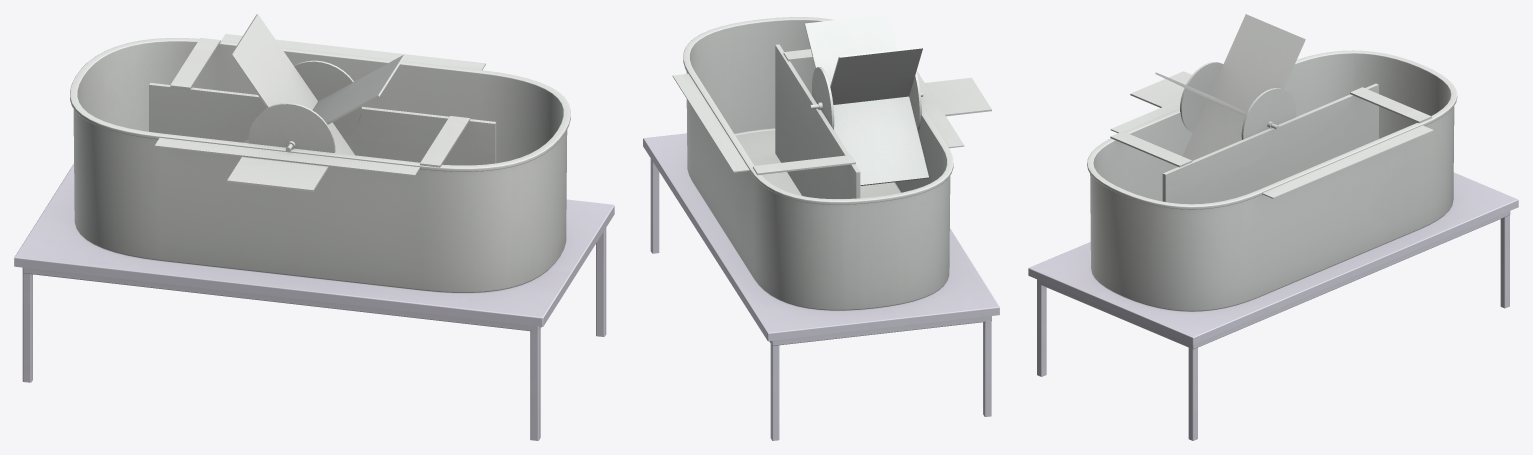
Rendered from Reactor.glb.
The picture shows the model from 3 angles, left to right: view 1: azimuth 30°, elevation 25°; view 2: azimuth 150°, elevation 25°; view 3: azimuth 270°, elevation 25°; orthographic projection. The views are drawn at different scales.
Visible parts, largest first — view 1: Box018; view 2: Box018; view 3: Box018.
Boxes of the visible parts, x1=… form: Box018: x1=14, y1=14, x2=614, y2=440; Box018: x1=643, y1=14, x2=999, y2=440; Box018: x1=1028, y1=14, x2=1518, y2=440.
Size of the model in its own units: 2.12 by 1.36 by 2.12.
1 material, 1 textured.
